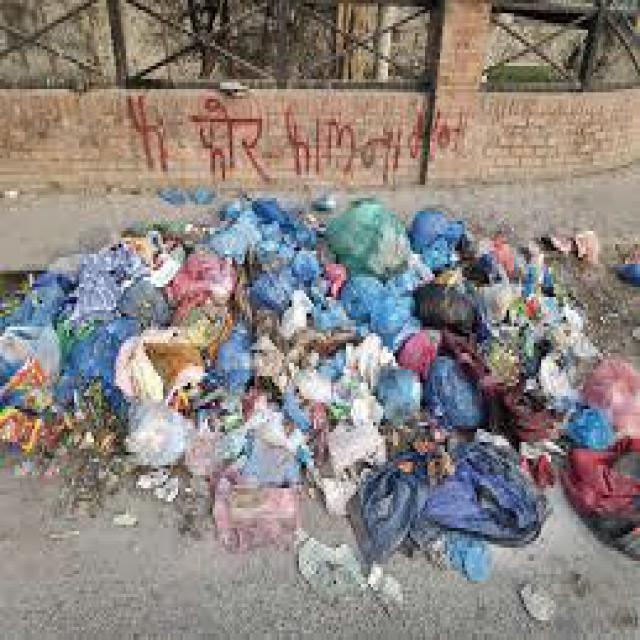garbage: (0, 192, 638, 590)
